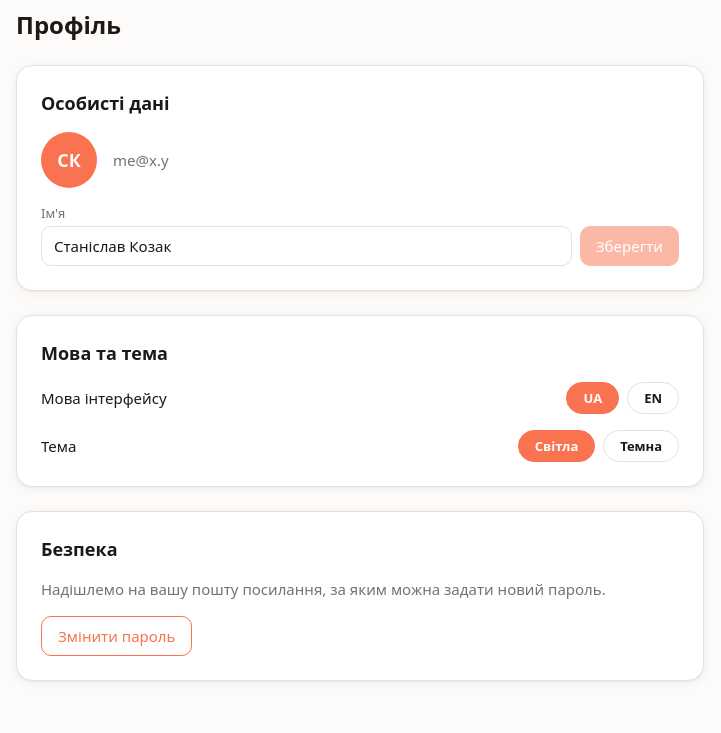
Test: ProfilePage › sends a password change link to the own email
The width and height of the screenshot is (721, 733).
Click the button "Змінити пароль": (117, 636) [41,616,192,656]
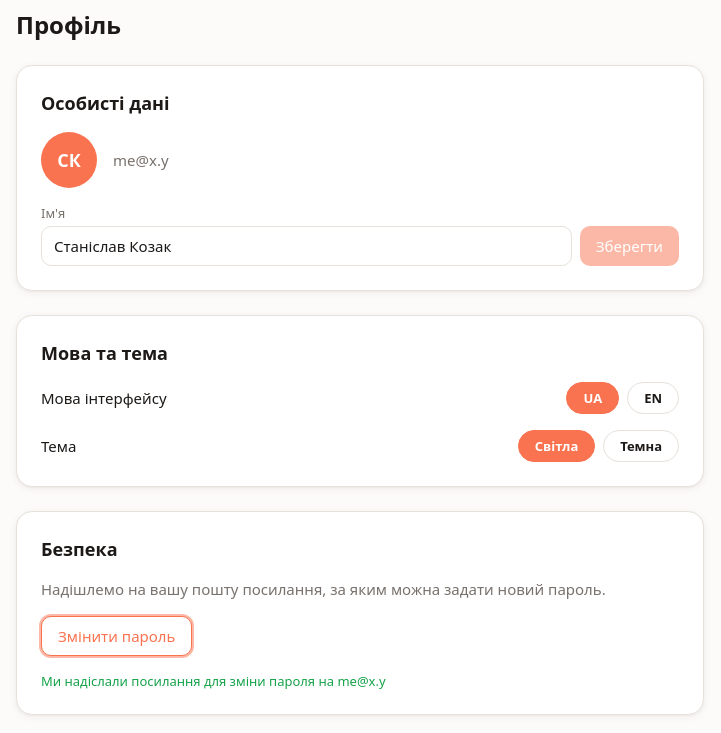
Now the message reads "Ми надіслали посилання для зміни пароля на me@x.y", box [41,672,386,690]
